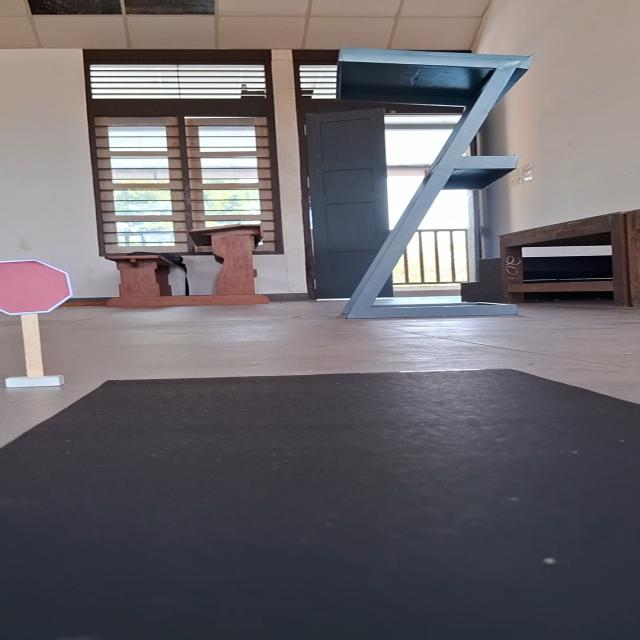Stop: (0, 252, 77, 319)
